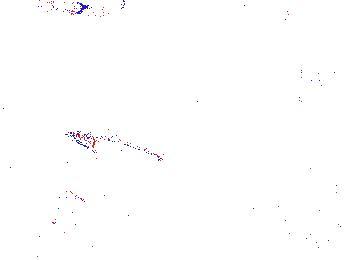X-ray fish: (99, 187, 141, 244)
glassfish: (63, 128, 180, 176)
red belly glassfish: (299, 64, 342, 80), (286, 7, 301, 25)
redtail glassfish: (264, 75, 335, 95), (83, 1, 126, 28), (36, 1, 86, 14)
